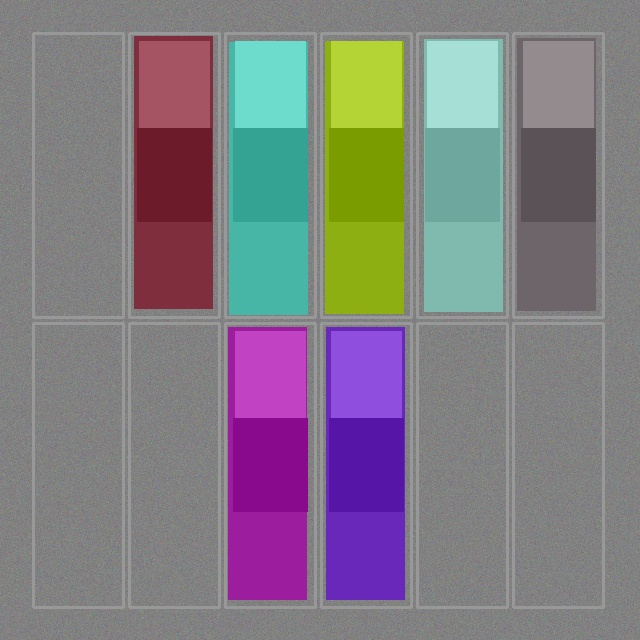space-empty: (35, 35, 121, 315), (35, 325, 121, 605), (131, 325, 217, 605), (419, 325, 505, 605), (515, 325, 601, 605)
space-occupied: (131, 35, 217, 315), (227, 35, 313, 315), (323, 35, 409, 315), (419, 35, 505, 315), (515, 35, 601, 315), (227, 325, 313, 605), (323, 325, 409, 605)
